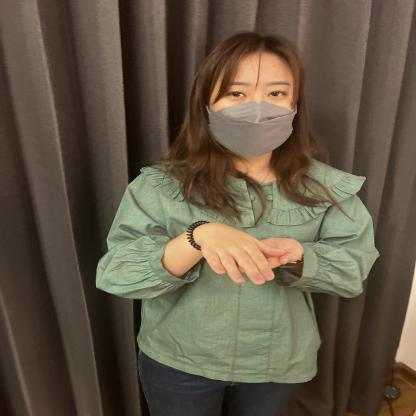Love: (73, 163, 378, 325)
